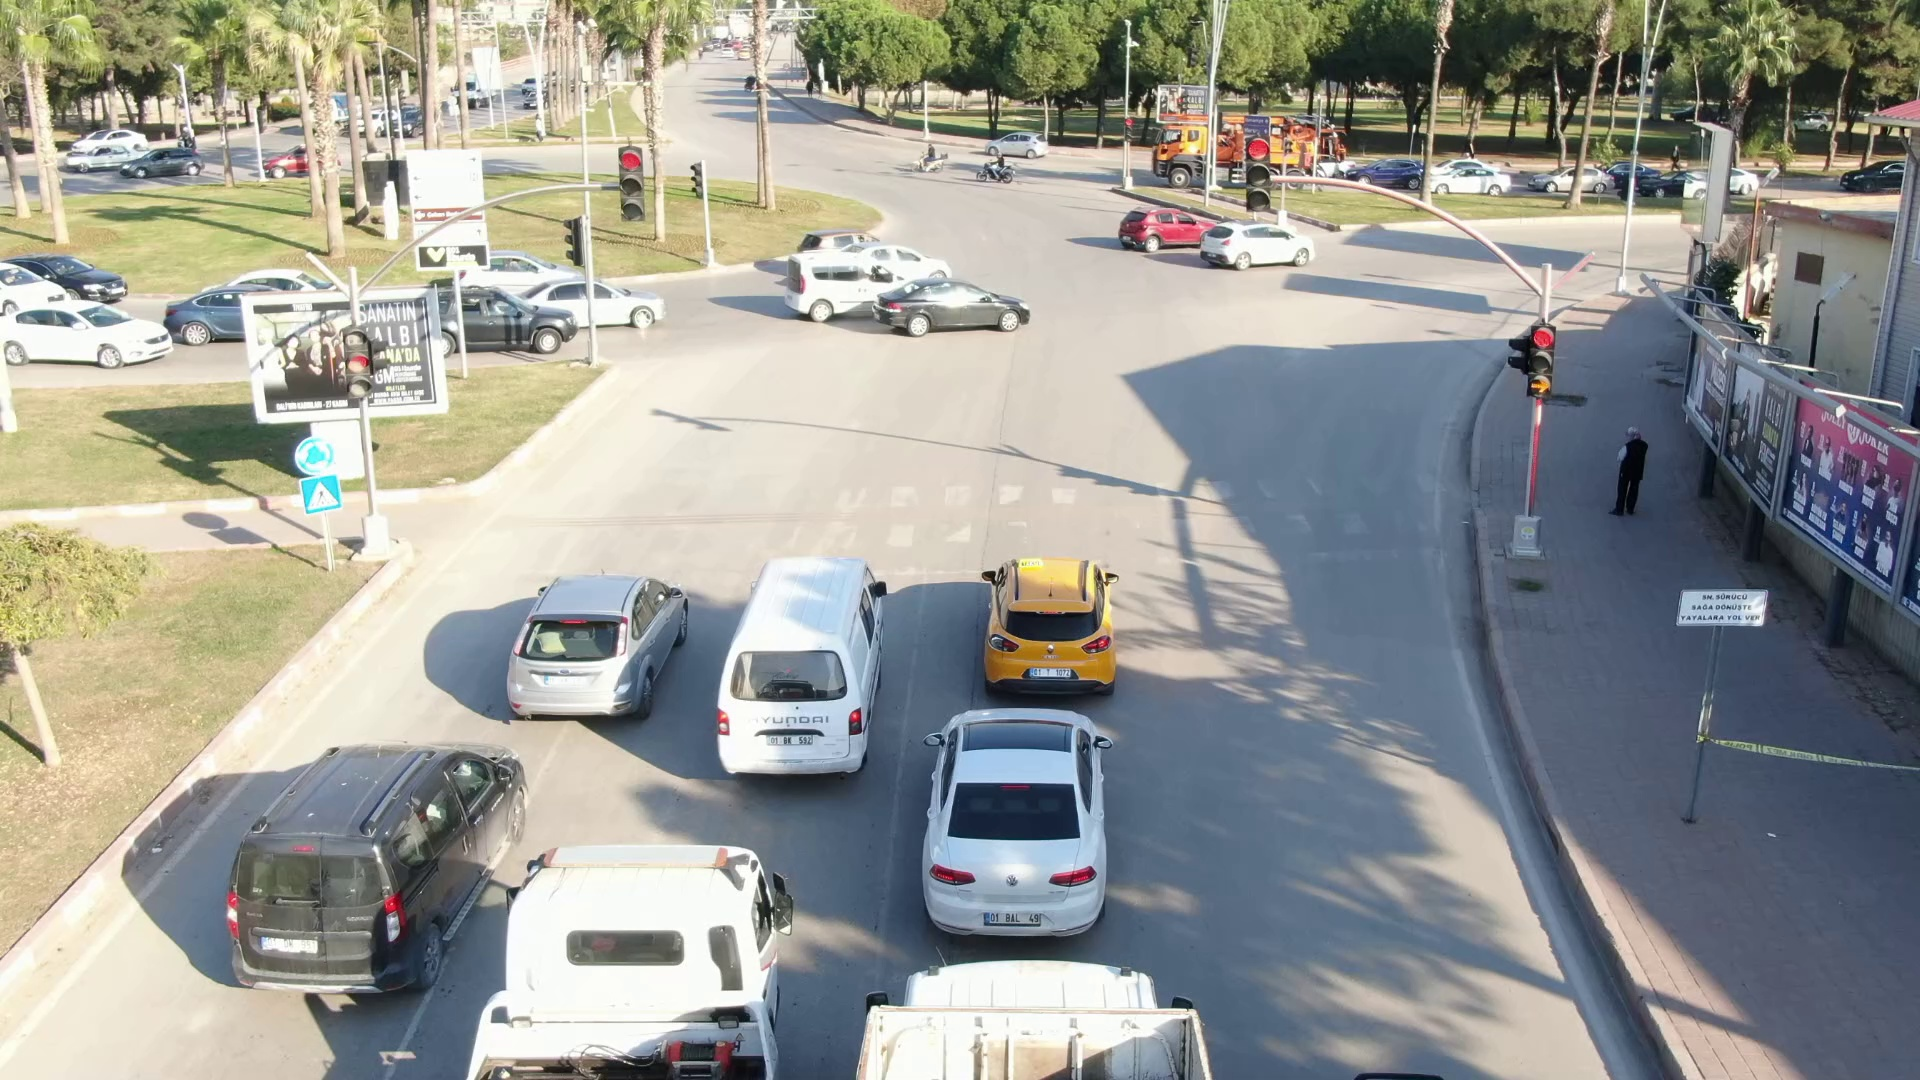car: (216, 738, 531, 997), (920, 703, 1117, 942), (712, 551, 898, 782), (502, 570, 698, 724), (977, 551, 1127, 704), (1, 295, 173, 371), (429, 284, 578, 353), (866, 276, 1031, 338), (516, 276, 669, 338), (1203, 220, 1317, 274), (1117, 203, 1217, 255), (116, 142, 206, 183), (1425, 164, 1515, 200), (1346, 153, 1425, 191), (1526, 164, 1617, 196), (986, 128, 1054, 160)
